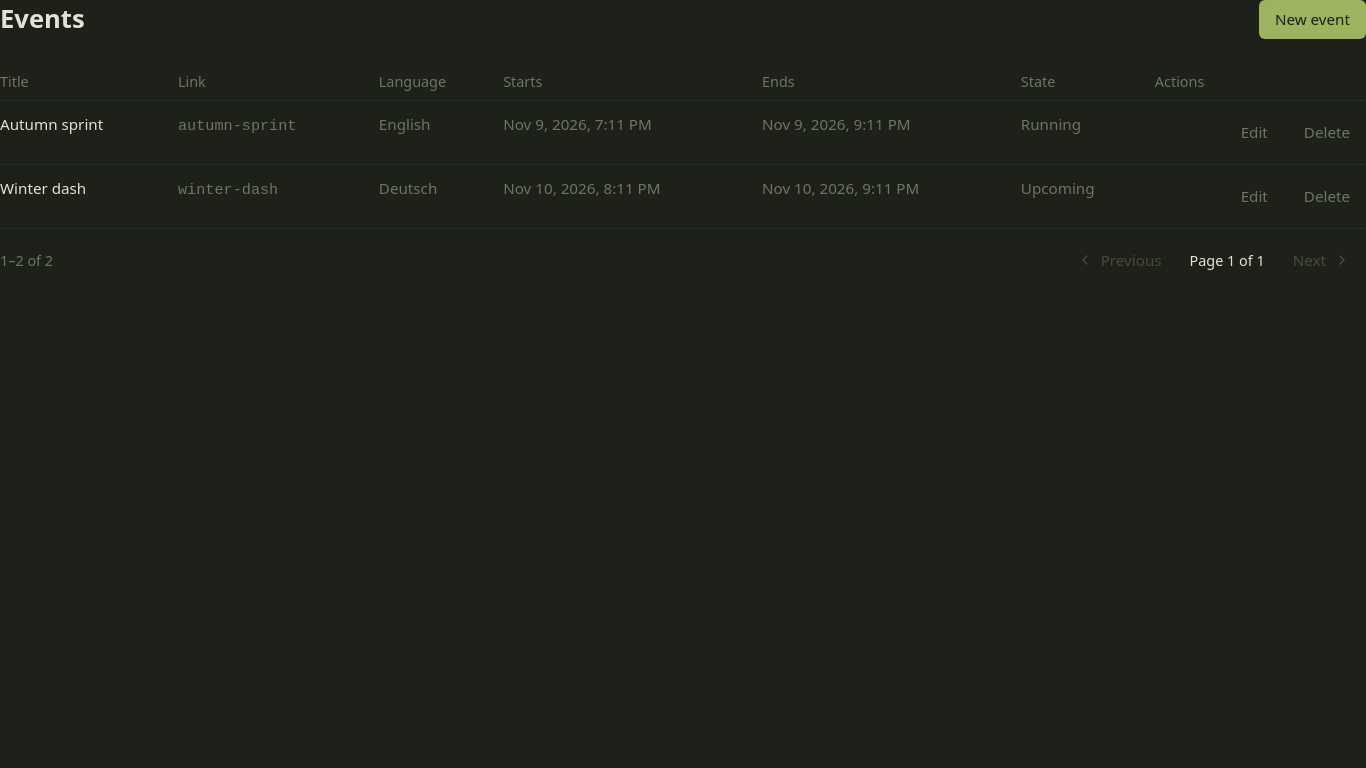
admin events modal › locks the text, language and start of a started event, and says why
Check: the text "Autumn sprint" is shown, box [0,114,103,134]
Click the button "Edit" in the row of "Autumn sprint".
click(1254, 133)  # box [1225,113,1284,152]
(page scrolled)
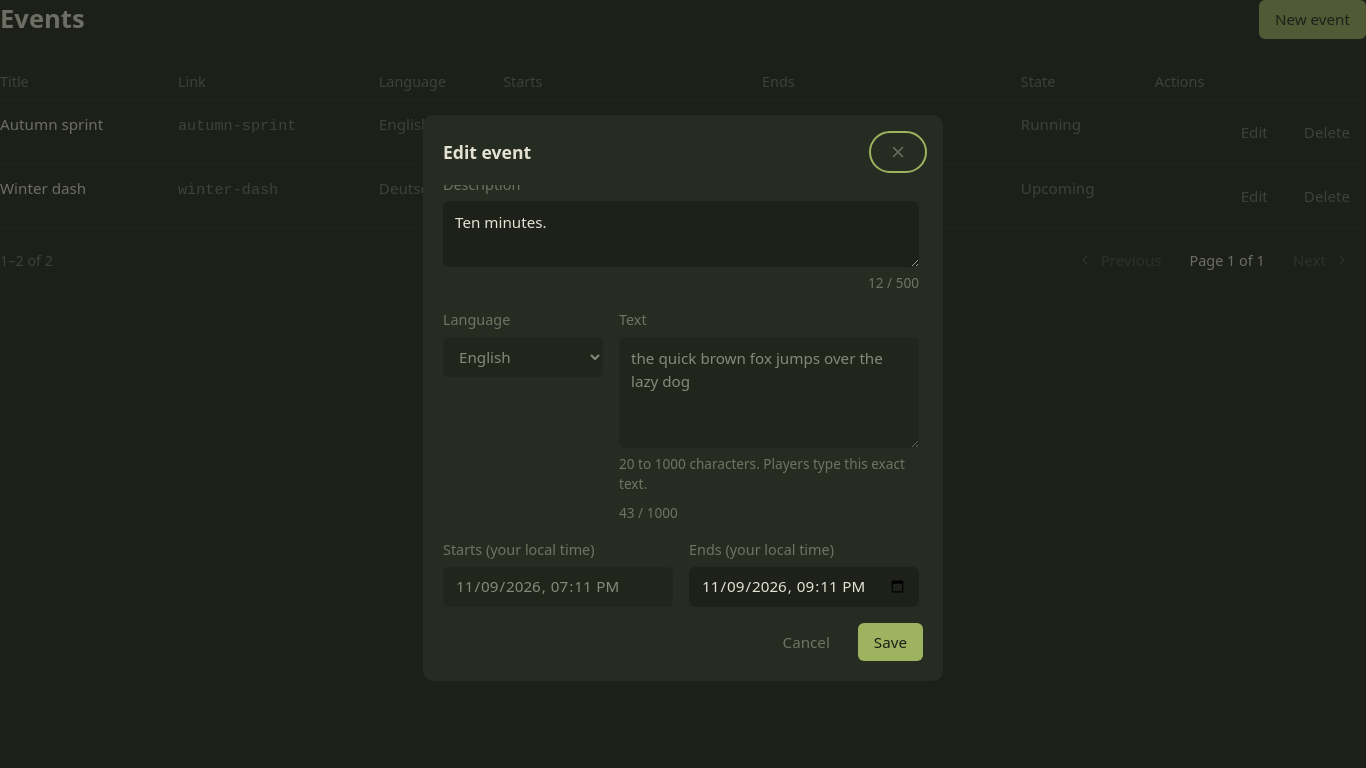
Check: the dropdown labelled "Language" is disabled, box [443,337,603,377]
Check: the text box labelled "Text" is disabled, box [619,337,919,448]
Check: the field labelled "Starts (your local time)" is disabled, box [443,567,673,606]
